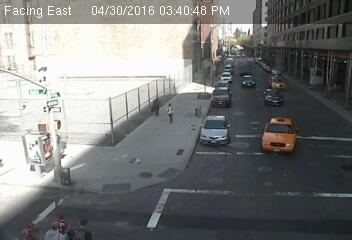neg: (260, 111, 300, 165), (166, 181, 205, 232), (211, 118, 248, 168), (127, 146, 159, 190), (227, 69, 253, 104), (288, 133, 310, 162), (90, 159, 112, 187), (254, 82, 276, 110), (140, 47, 160, 74), (189, 77, 207, 101), (224, 63, 239, 83)
